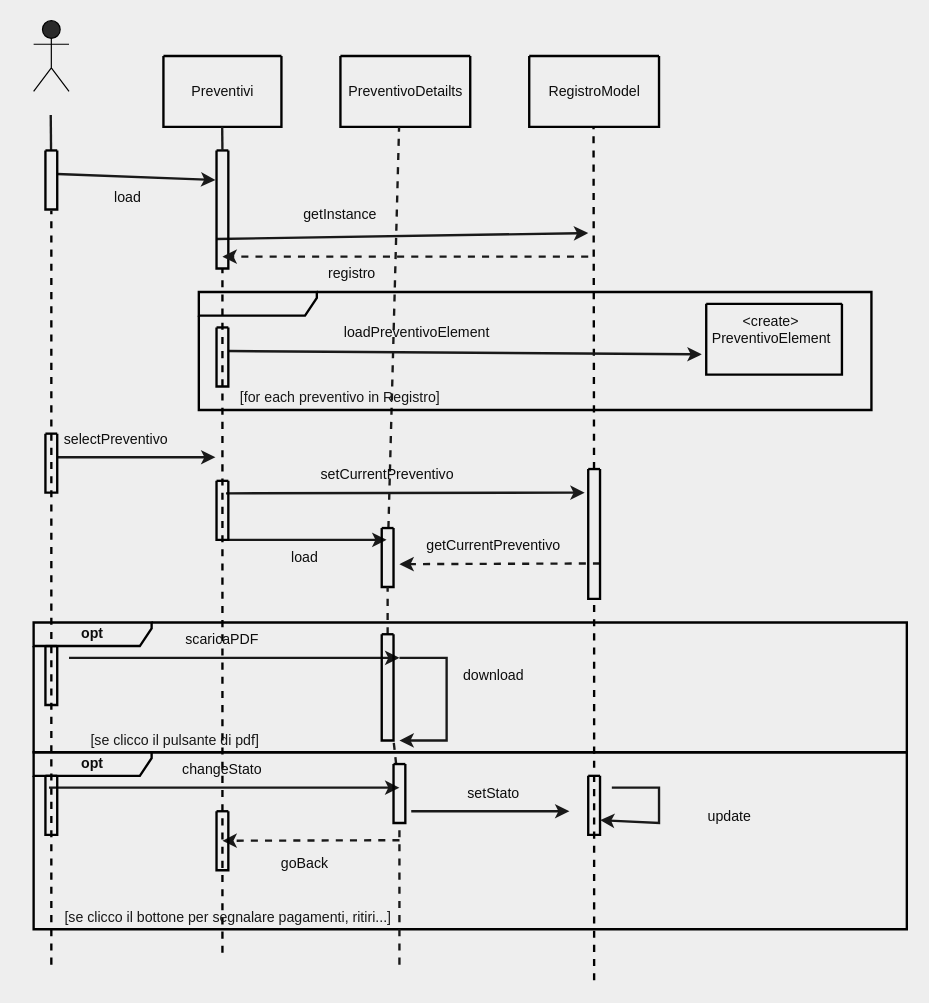
This 929x1003 diagram has some shape labels left out. Here are the shapes that lost their labels. From the top down, the box of each, then its label:
(32, 19, 69, 91): Impiegato
(197, 290, 872, 411): loop
